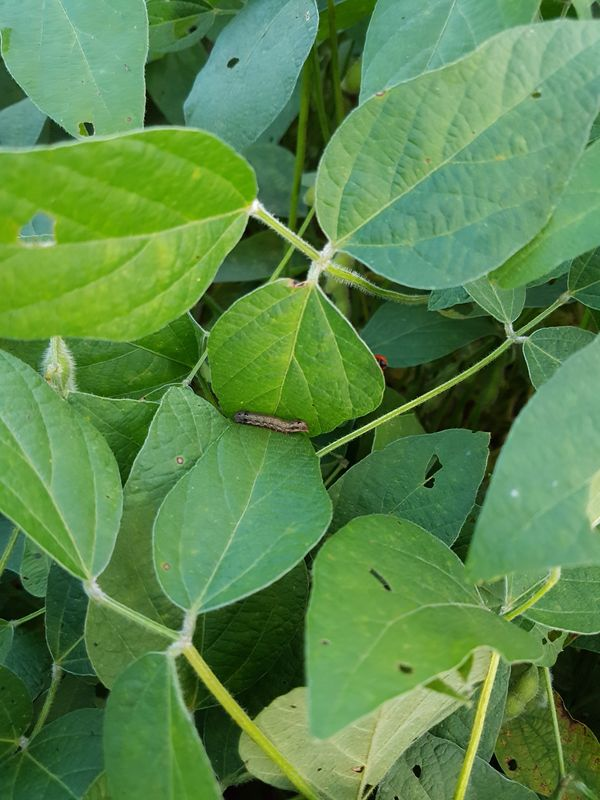Coccinellidae: (365, 348, 396, 377)
Spodoptera_albula: (218, 394, 316, 462)
